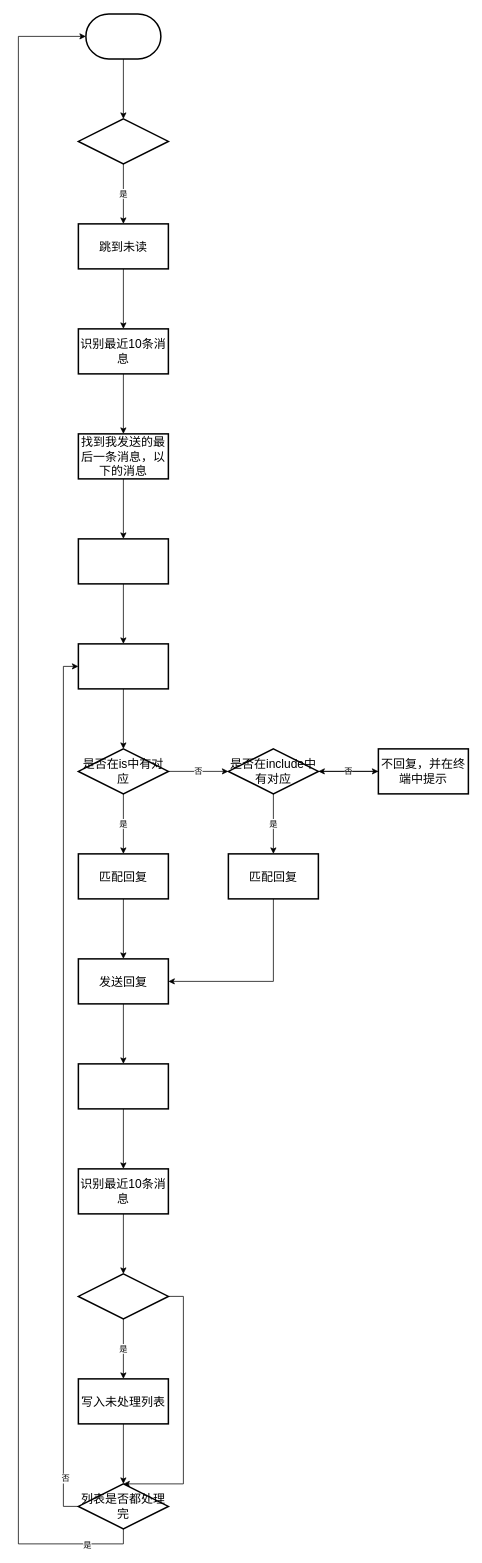
Some shapes in this 482 by 1563 pixel diagram are drawn without their labels. Here are the shapes that lost their labels. From the top down, the centre of each, then its label:
At [123,36]: "“文件传输助手”".
At [123,141]: "是否有未读消息".
At [123,561]: "装入未处理消息列表".
At [123,666]: "从列表中依次取出未处理消息".
At [123,1086]: "从列表中删除这条消息".
At [123,1296]: "是否有客户新发送来的消息".
